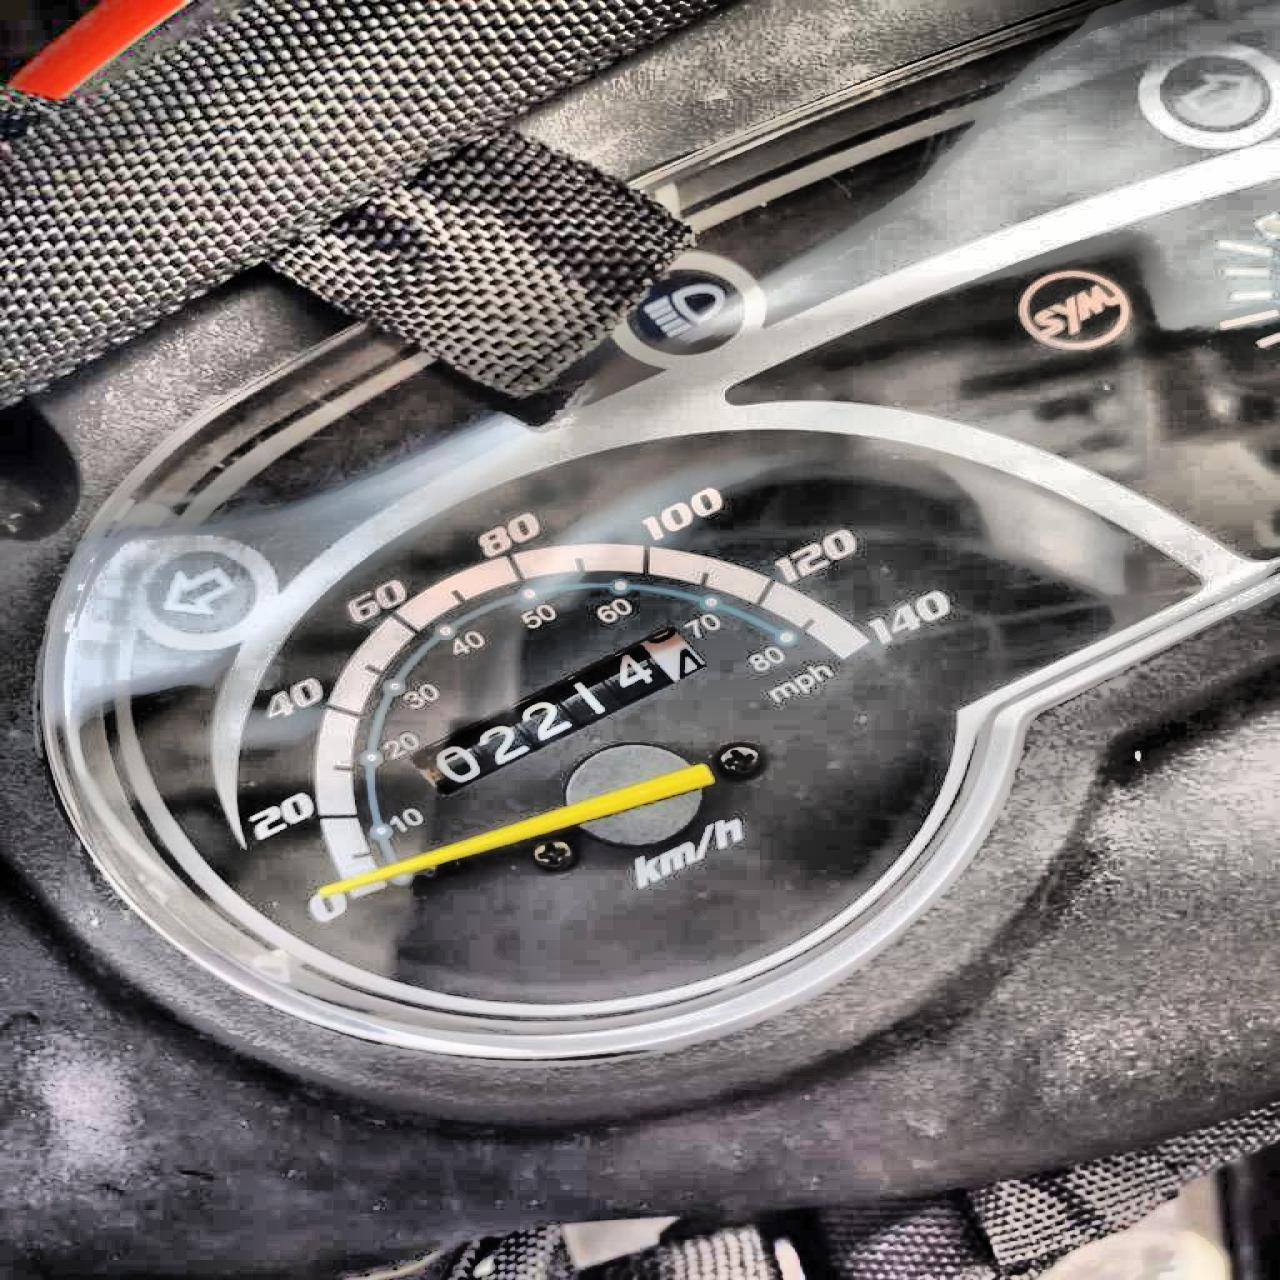0: (430, 744, 478, 785), (463, 629, 485, 649), (417, 682, 441, 701), (399, 731, 420, 750)
1: (568, 676, 607, 717)
2: (474, 726, 529, 765), (518, 702, 570, 742)
3: (403, 690, 424, 710)
4: (613, 649, 656, 693), (668, 646, 704, 683), (448, 635, 470, 658)
7: (683, 617, 702, 640)
odometer: (403, 624, 708, 797)
